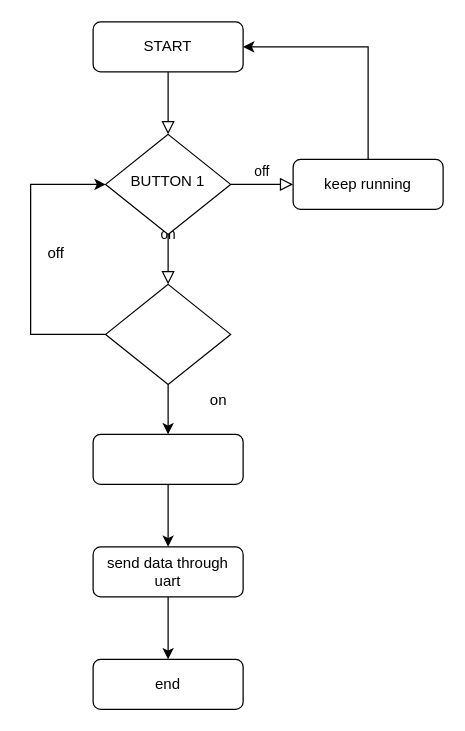
This 465x731 diagram has some shape labels left out. Each missing label, with the centre of its shape:
"Button 2" goes at (167,333).
"get data from sensor" goes at (167,458).
